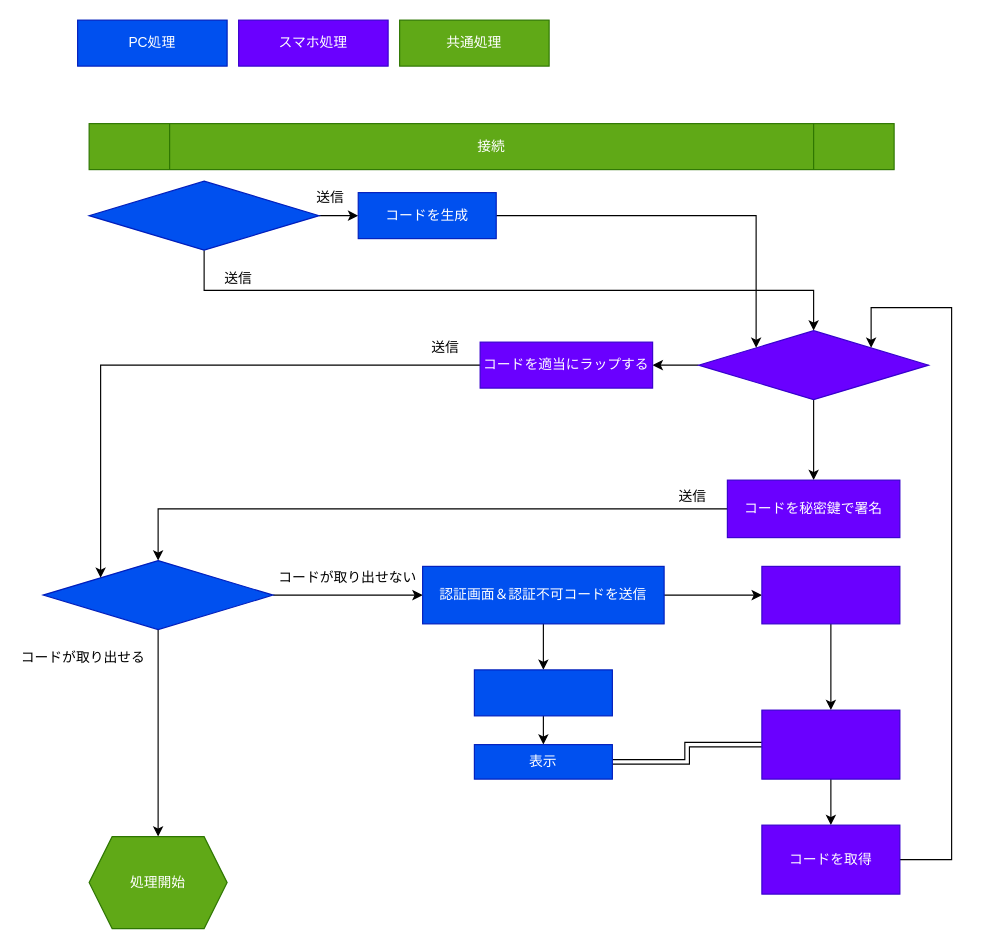
This 981x949 diagram has some shape labels left out. The shapes that lost their labels are listed below. From the top down, each one's centre as x and y in pixels, then its label:
At (203,215): "コードを持っている".
At (813,364): "知っているコード".
At (157,594): "公開鍵で検証".
At (830,594): "カメラを起動".
At (542,692): "新規鍵ペアを作成".
At (830,744): "読み取り".
